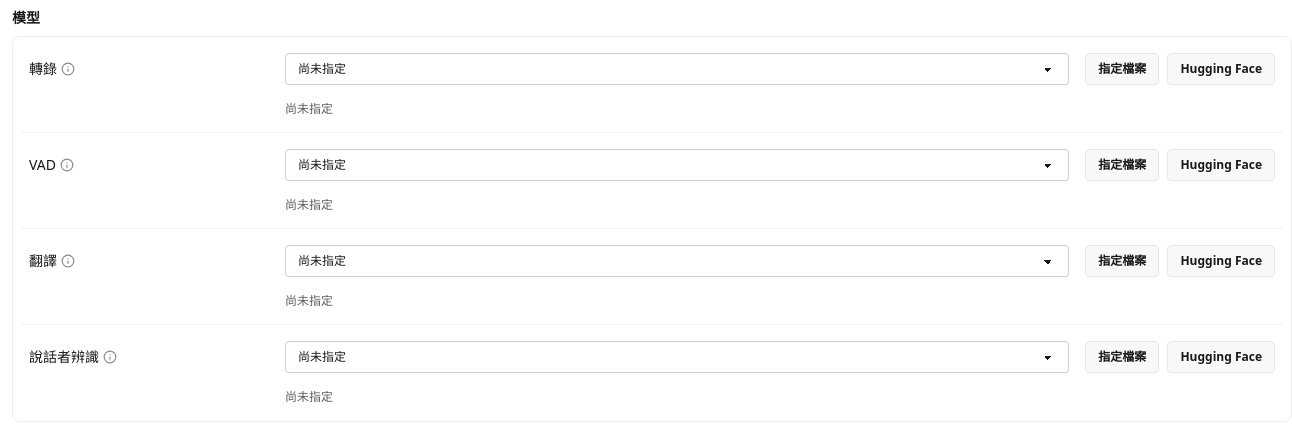
Test case: Models › shows how far a Model's download has come
Select "Qwen3-4B-Instruct-2507 Q4_K_M · 2.50 GB" in the dropdown named "翻譯" at (677,261), box [285, 245, 1069, 277]
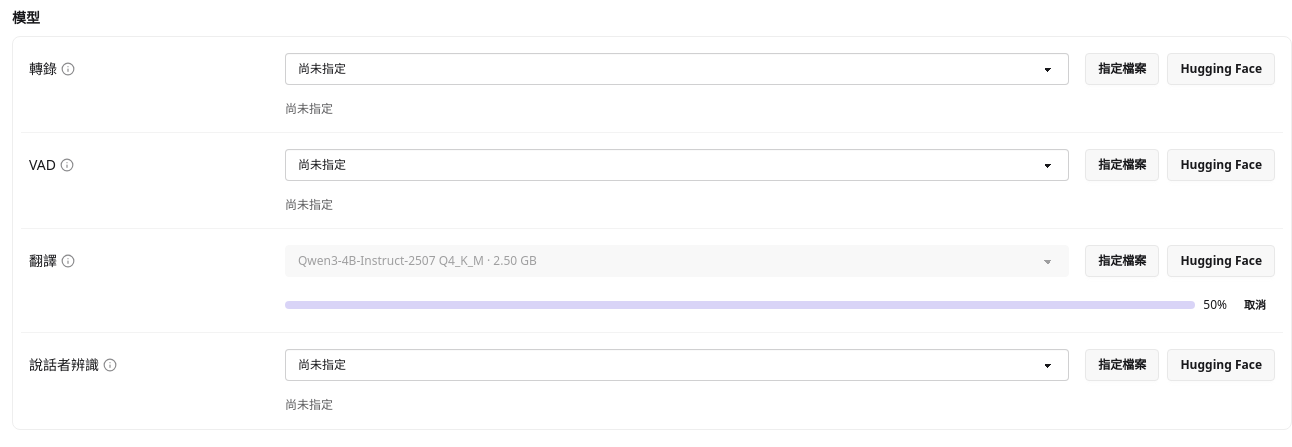
Expected: the text "50%" is shown, [1203, 297, 1227, 313]
